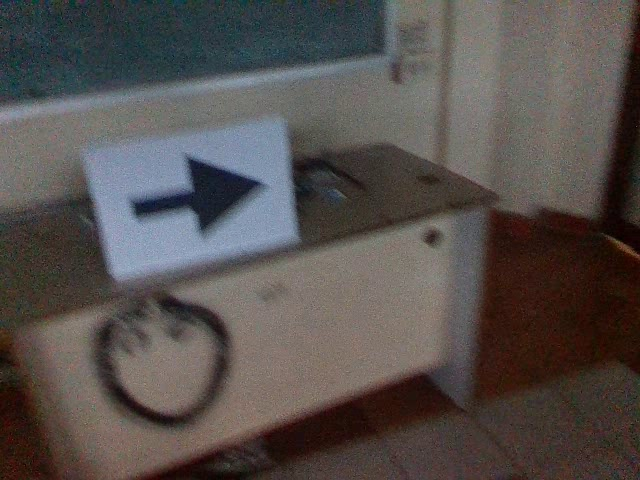Right: (121, 148, 267, 242)
